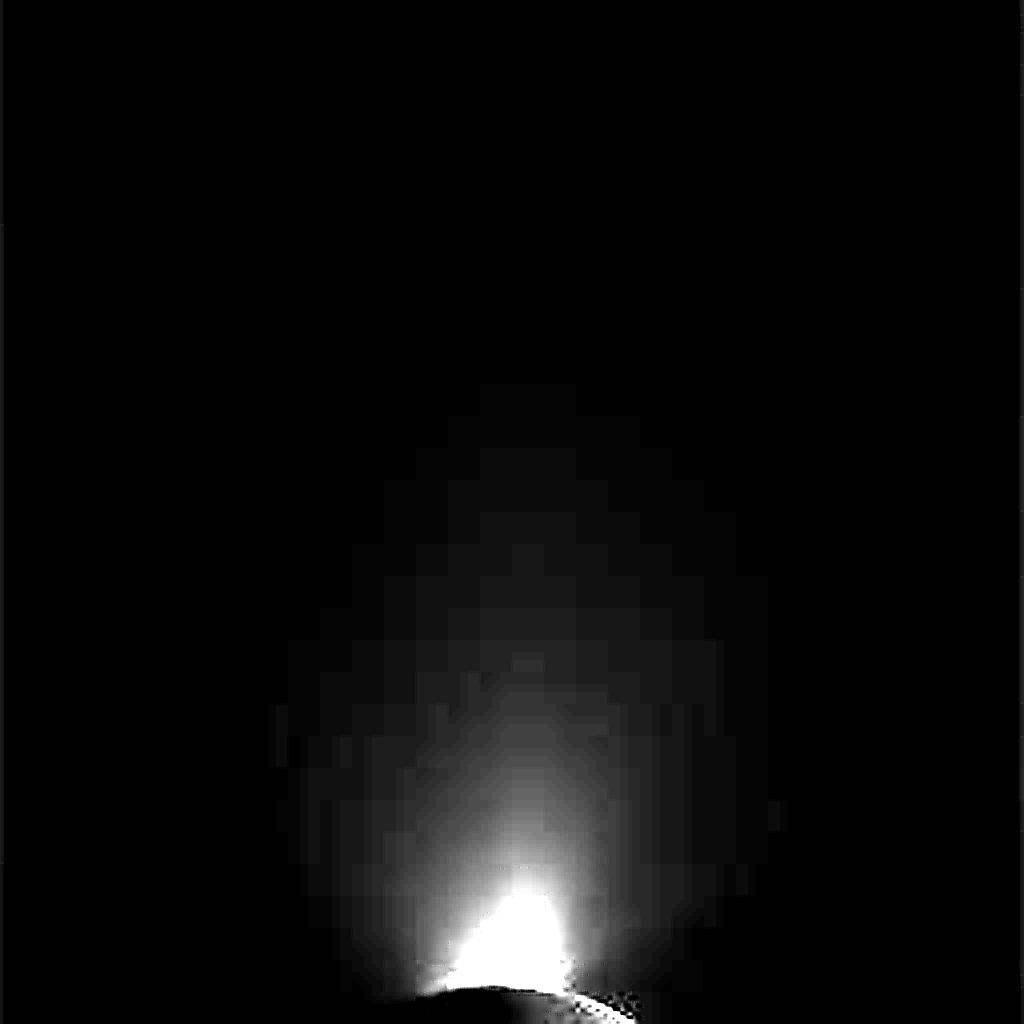plumes: (440, 892, 568, 989)
